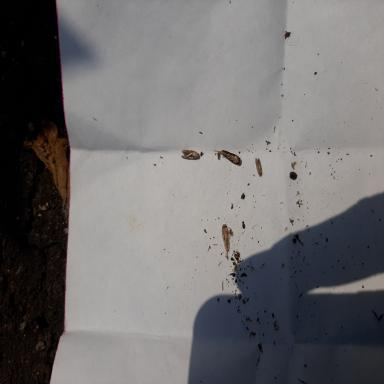pbw: (213, 150, 242, 165), (222, 224, 230, 260), (181, 149, 200, 159), (255, 157, 263, 177)
